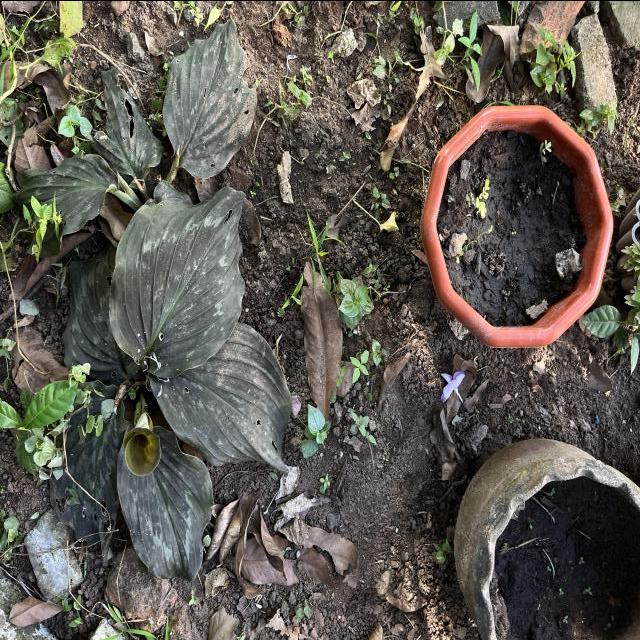Kaempferia galanga linn: (106, 182, 248, 378), (145, 321, 295, 478), (116, 423, 216, 584), (160, 15, 258, 179)
